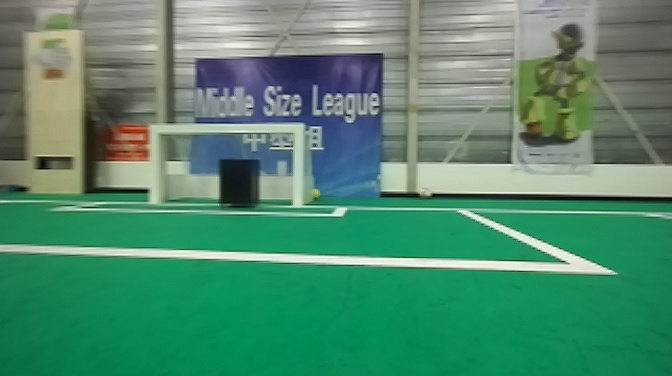ball: (307, 186, 322, 202), (413, 186, 436, 195)
goalpost: (286, 119, 307, 211), (145, 125, 168, 205)
